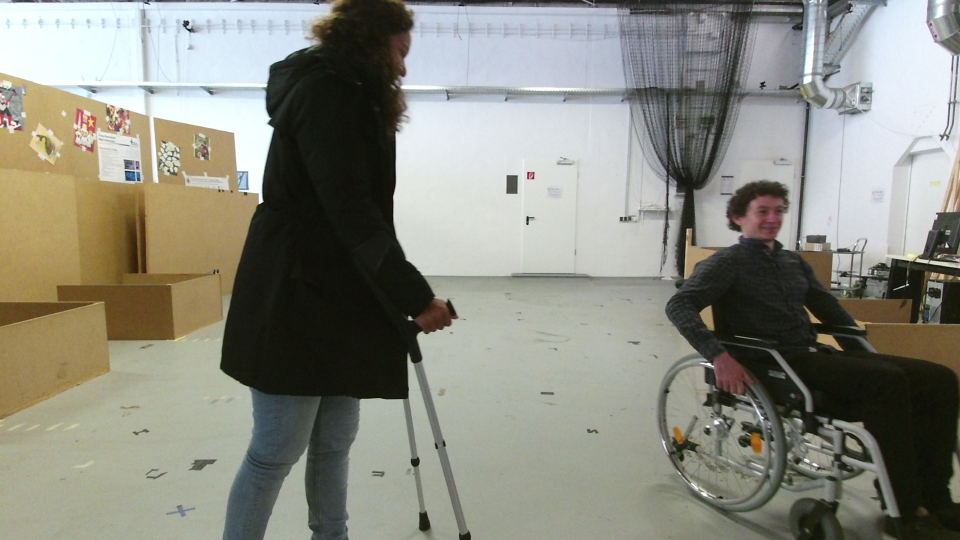crutches: (207, 1, 469, 540)
wheelchair: (645, 177, 960, 540)
